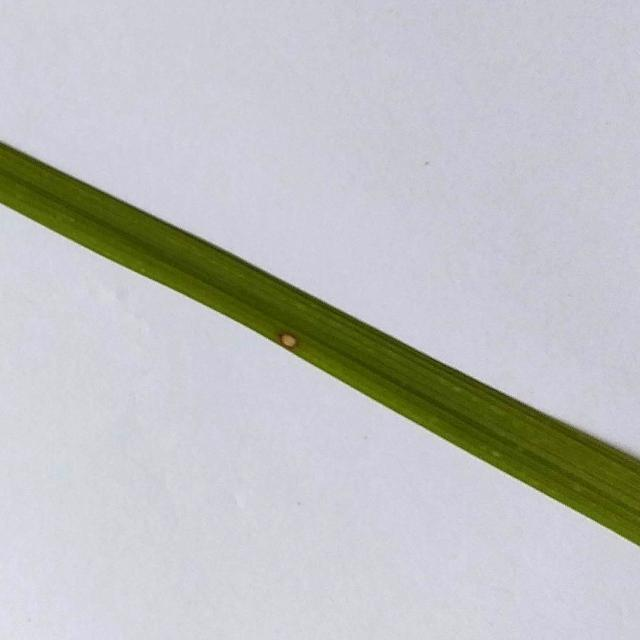Blast: (278, 332, 300, 346)
